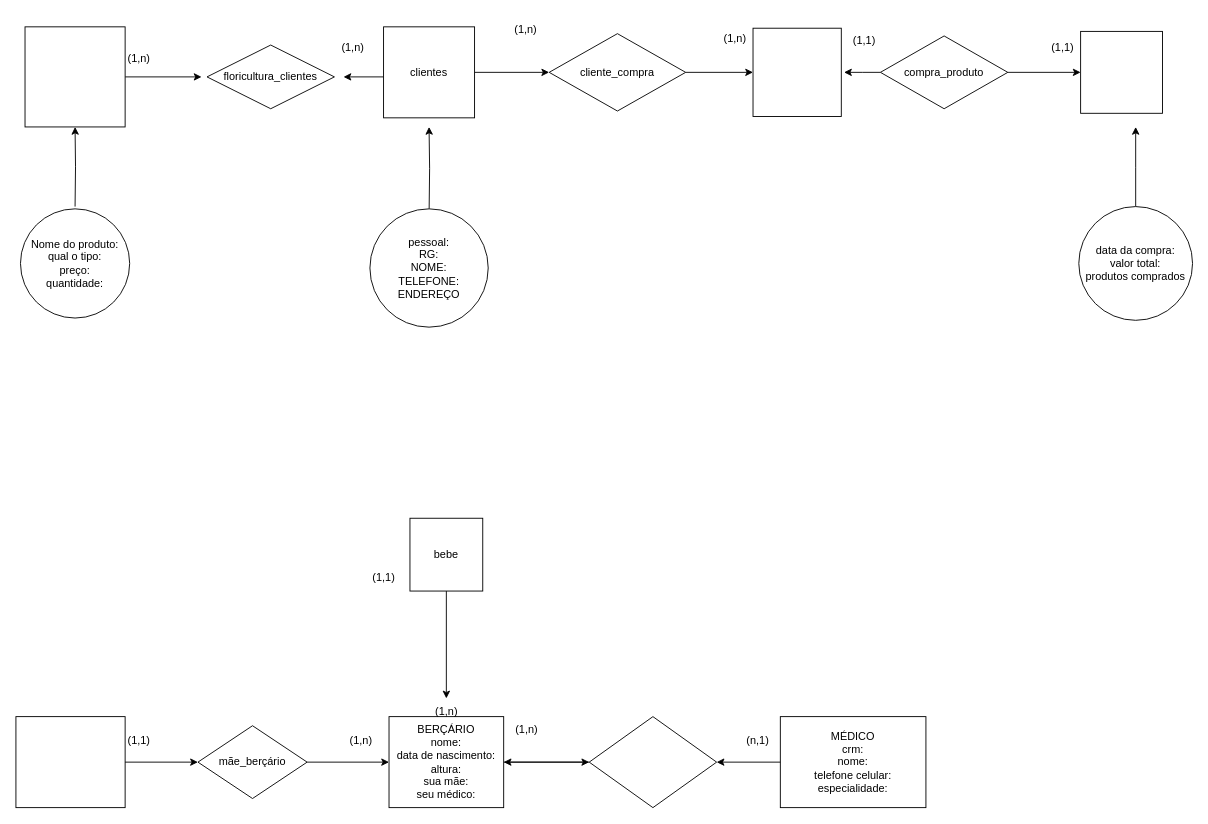
The diagram is 1208 pixels wide and 824 high, and some of its shapes have lost their labels. The shapes that lost their labels are listed below. From the top down, each one's centre as x and y in pixels, then its label:
the point at 74,76: floricultura
the point at 796,71: compra
the point at 1121,71: produto
the point at 70,762: MÃE Nome: endereço: telefone: data de nascimento
the point at 652,762: berçário_médico
